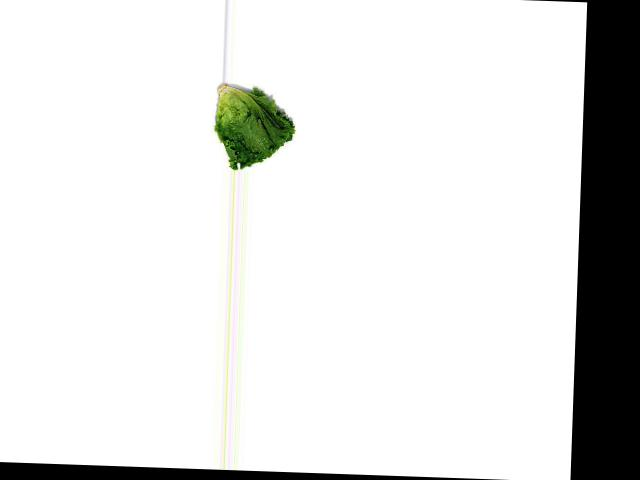lettuce: (206, 80, 303, 171)
